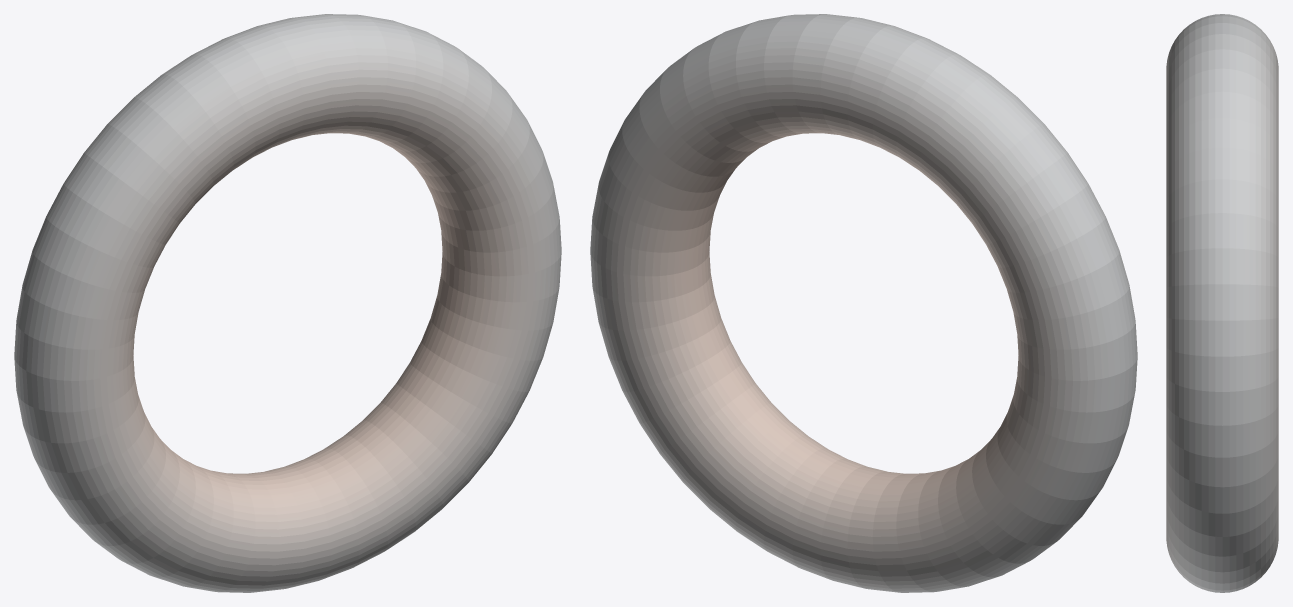
3 renders of one model, left to right at view 1: azimuth 30°, elevation 25°; view 2: azimuth 150°, elevation 25°; view 3: azimuth 270°, elevation 25°, orthographic. The views are drawn at different scales.
Parts seen in each view (by area): view 1: world; view 2: world; view 3: world.
Part boxes in pixels (bbox=[...]): world: bbox=[14, 14, 561, 592]; world: bbox=[590, 14, 1137, 592]; world: bbox=[1166, 14, 1278, 592].
Size of the model in its own units: 28.13 by 28.08 by 5.46.
